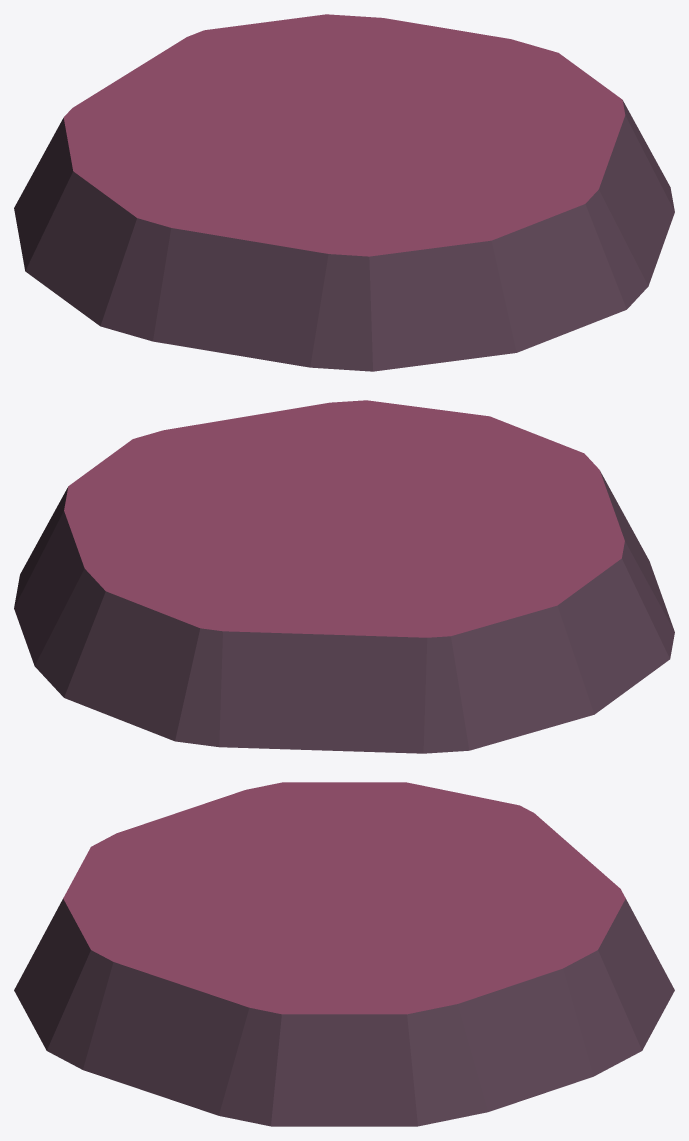
Rendered from Rock019.fbx.
The picture shows the model from 3 angles, top to bottom: view 1: azimuth 30°, elevation 25°; view 2: azimuth 150°, elevation 25°; view 3: azimuth 270°, elevation 25°; orthographic projection. The views are drawn at different scales.
Parts seen in each view (by area): view 1: Rock019; view 2: Rock019; view 3: Rock019.
Boxes of the visible parts, <box> form: Rock019: <box>14,14,674,371</box>; Rock019: <box>14,400,674,753</box>; Rock019: <box>14,782,674,1126</box>.
Size of the model in its own units: 108 by 17.06 by 111.
